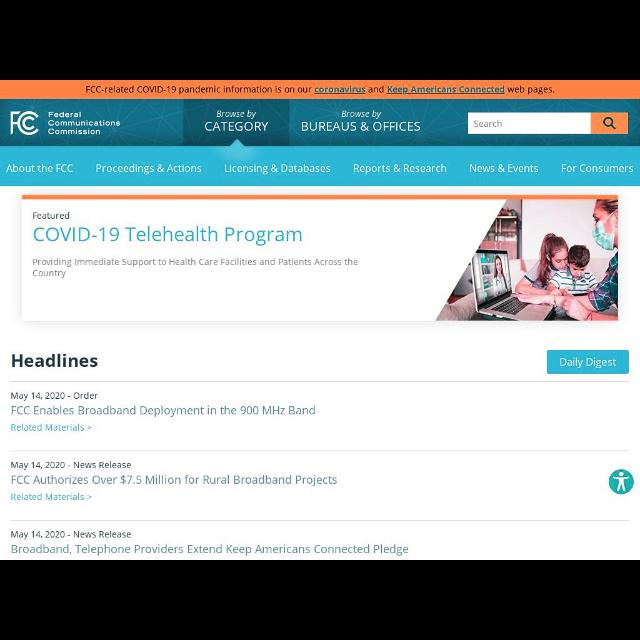button: (592, 114, 628, 134)
icon: (603, 115, 617, 131), (86, 424, 92, 430), (86, 495, 92, 499)
image: (434, 199, 618, 321), (10, 110, 40, 136), (608, 469, 634, 495)
input: (469, 114, 591, 134)
link: (387, 84, 507, 96), (312, 85, 368, 96)
multitab: (6, 162, 636, 175)
panel: (21, 194, 620, 322), (1, 144, 639, 186)
text: (32, 259, 360, 279), (33, 226, 305, 247), (84, 84, 556, 96), (9, 544, 410, 558), (9, 404, 317, 420), (10, 474, 338, 488), (48, 111, 120, 135), (10, 354, 100, 370), (224, 162, 332, 175), (10, 461, 132, 472), (301, 121, 421, 132), (95, 163, 203, 175), (352, 162, 448, 175), (10, 530, 132, 540), (10, 390, 98, 402), (561, 163, 635, 174), (204, 120, 270, 132), (558, 356, 618, 369), (6, 163, 74, 174), (10, 422, 84, 432), (10, 493, 84, 503), (468, 163, 540, 173), (342, 110, 382, 120), (216, 111, 258, 119), (33, 212, 71, 220), (474, 120, 504, 130)
textbutton: (545, 348, 631, 376)
toolbar: (2, 101, 640, 145)
